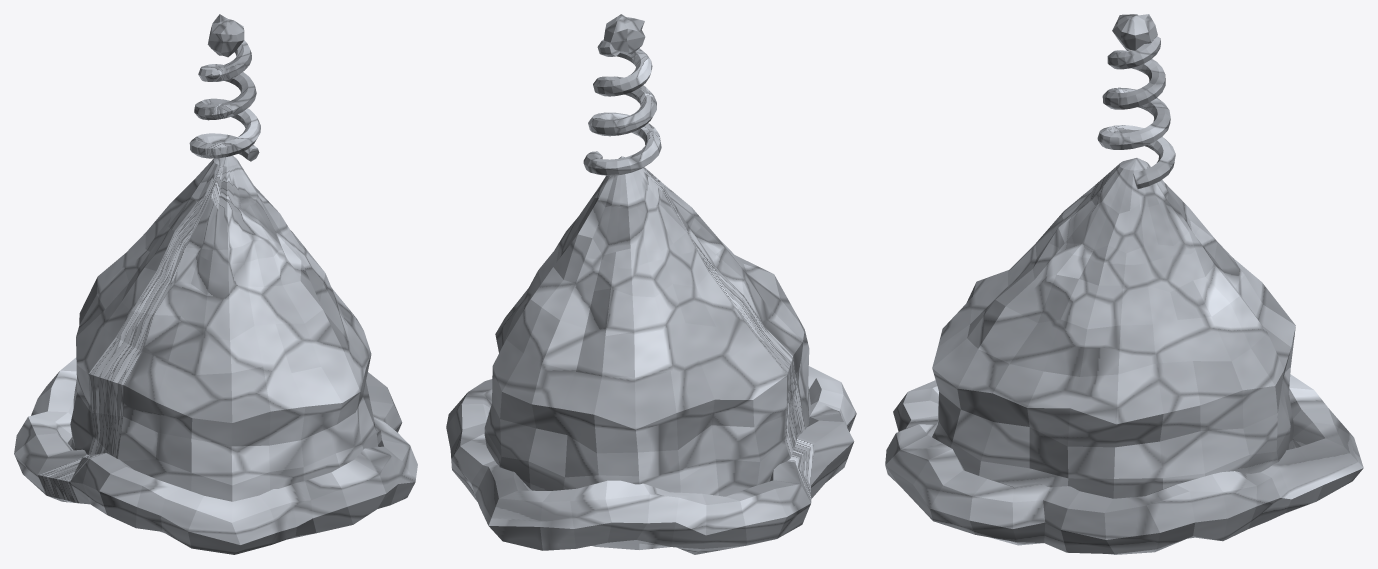
Rendered from hat_tinfoil.glb.
The picture shows the model from 3 angles, left to right: view 1: azimuth 30°, elevation 25°; view 2: azimuth 150°, elevation 25°; view 3: azimuth 270°, elevation 25°; orthographic projection. The views are drawn at different scales.
Visible parts, largest first — view 1: hat_tinfoil; view 2: hat_tinfoil; view 3: hat_tinfoil.
Boxes of the visible parts, x1=… form: hat_tinfoil: x1=14, y1=14, x2=417, y2=554; hat_tinfoil: x1=446, y1=14, x2=856, y2=554; hat_tinfoil: x1=885, y1=14, x2=1363, y2=554.
Size of the model in its own units: 0.264 by 0.3356 by 0.3015.
3 materials, 3 textured.
